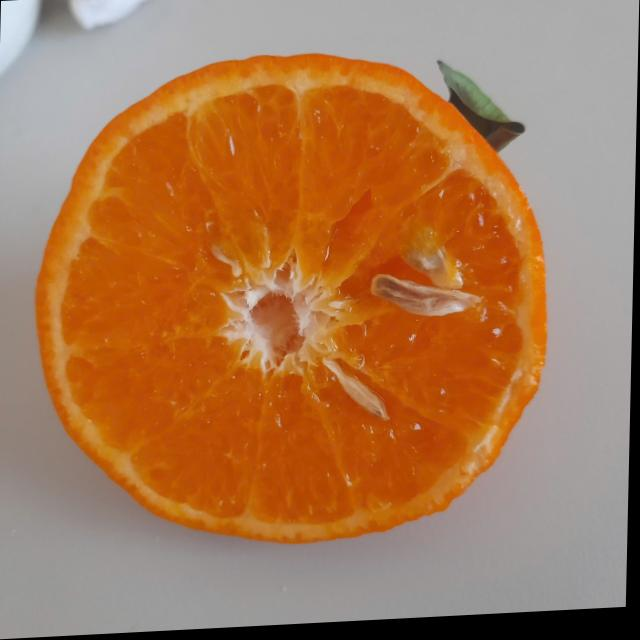Cam: (32, 34, 553, 563)
